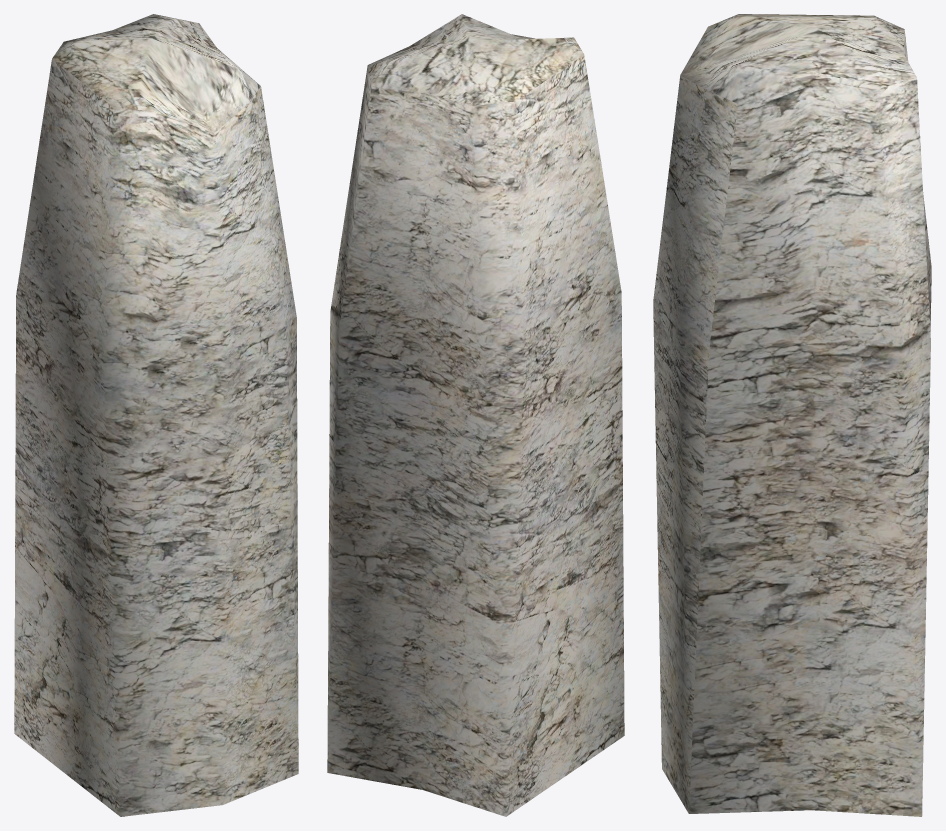
Rendered from stone_furrowed_3.dae.
The picture shows the model from 3 angles, left to right: view 1: azimuth 30°, elevation 25°; view 2: azimuth 150°, elevation 25°; view 3: azimuth 270°, elevation 25°; orthographic projection. The views are drawn at different scales.
Parts seen in each view (by area): view 1: Cube_010; view 2: Cube_010; view 3: Cube_010.
Boxes of the visible parts, <box> form: Cube_010: <box>14,14,298,816</box>; Cube_010: <box>327,14,624,816</box>; Cube_010: <box>653,14,931,816</box>.
Bounding box in the file's own units: 7.19 × 8.44 × 24.78.
